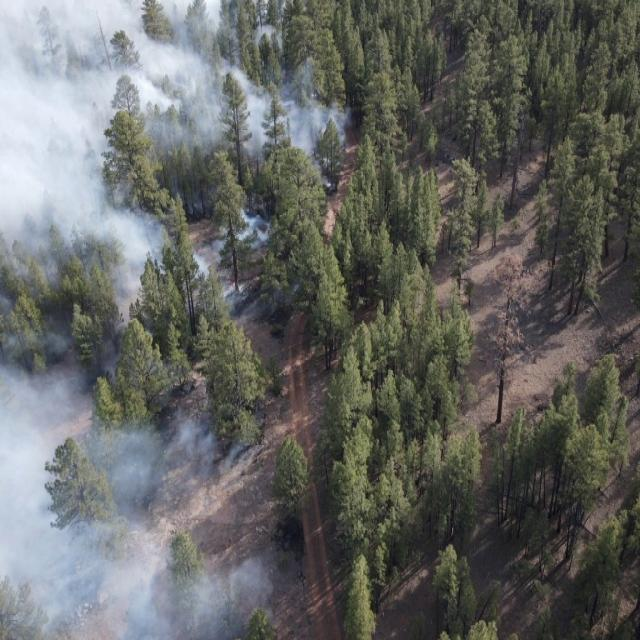fire: (223, 272, 236, 290)
smoke: (0, 329, 288, 640), (0, 0, 353, 185), (0, 184, 188, 314), (186, 206, 280, 333)
